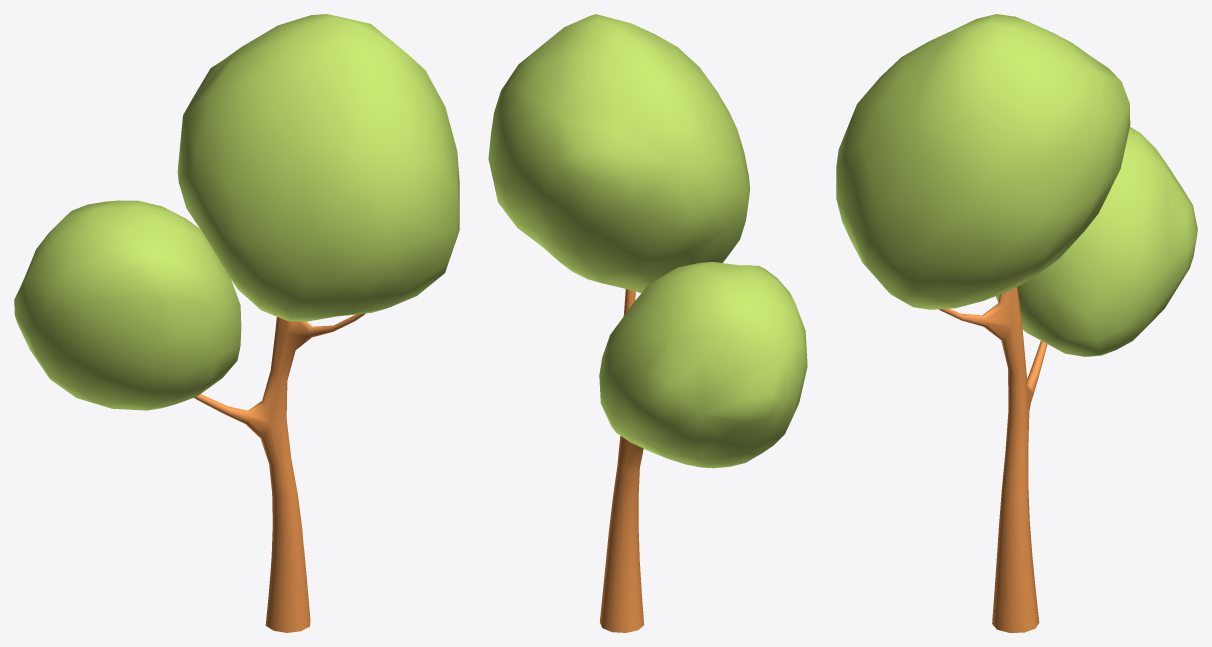
Rendered from Tree_E.fbx.
The picture shows the model from 3 angles, left to right: view 1: azimuth 30°, elevation 25°; view 2: azimuth 150°, elevation 25°; view 3: azimuth 270°, elevation 25°; orthographic projection. The views are drawn at different scales.
Visible parts, largest first — view 1: Oak_Tree_m_08; view 2: Oak_Tree_m_08; view 3: Oak_Tree_m_08.
Part boxes in pixels (left/top/right/bottom): Oak_Tree_m_08: left=14, top=14, right=459, bottom=632; Oak_Tree_m_08: left=488, top=14, right=807, bottom=632; Oak_Tree_m_08: left=836, top=14, right=1197, bottom=632.
Bounding box in the file's own units: 462 × 746 × 396.
